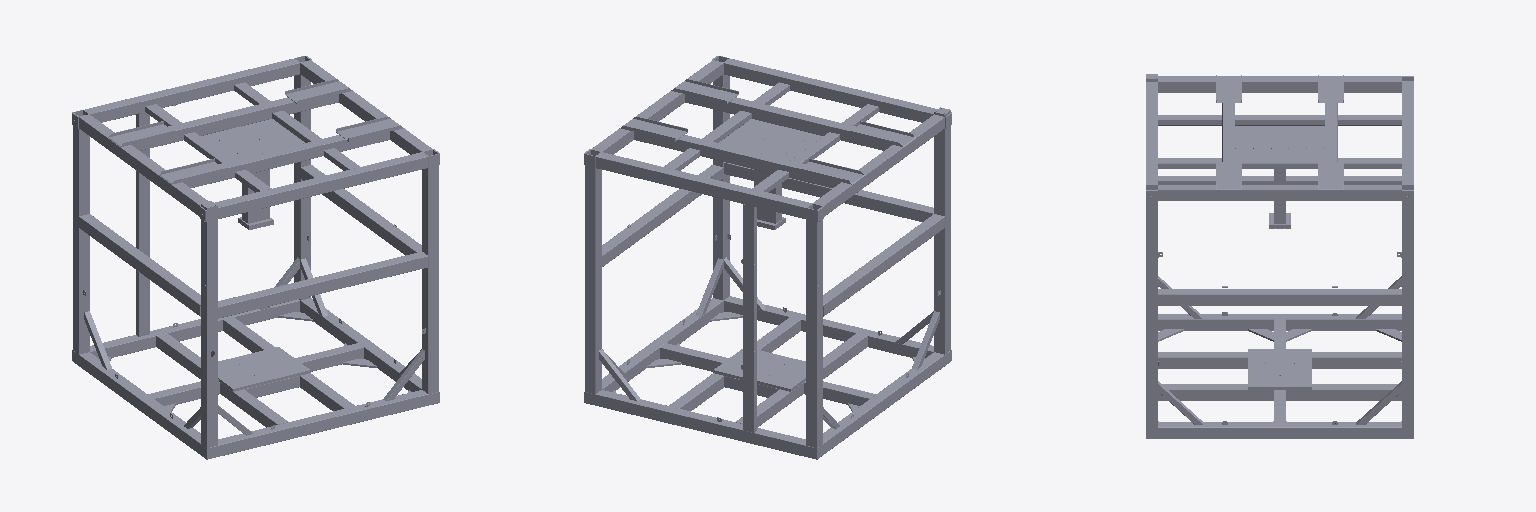
The model's file is changjing1.obj.
3 renders of one model, left to right at view 1: azimuth 30°, elevation 25°; view 2: azimuth 150°, elevation 25°; view 3: azimuth 270°, elevation 25°, orthographic.
Parts seen in each view (by area): view 1: Robot_Geo_1; view 2: Robot_Geo_1; view 3: Robot_Geo_1.
Part boxes in pixels (x1,y1,x2,y2): Robot_Geo_1: (72, 56, 439, 459); Robot_Geo_1: (584, 56, 951, 459); Robot_Geo_1: (1146, 74, 1413, 438).
Size of the model in its own units: 2120 by 2180 by 2100.